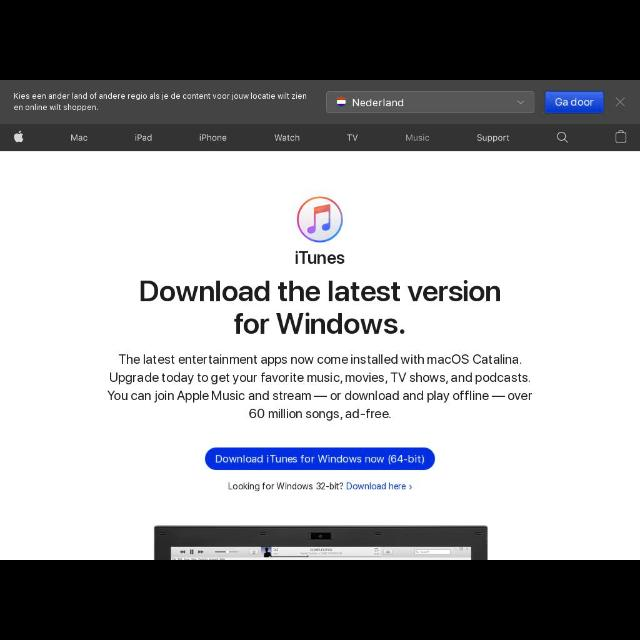icon: (616, 130, 626, 142), (558, 132, 568, 142), (615, 98, 625, 106), (517, 100, 525, 104)
image: (154, 526, 486, 560), (296, 196, 344, 242), (14, 132, 24, 142), (336, 98, 346, 106)
text: (108, 354, 532, 422), (141, 280, 501, 334), (216, 455, 424, 465), (229, 483, 413, 491), (296, 250, 344, 264), (354, 99, 404, 108), (556, 98, 594, 106), (478, 134, 510, 142), (199, 134, 227, 142), (274, 133, 300, 141), (404, 134, 430, 142), (70, 134, 88, 140), (136, 134, 152, 140), (346, 134, 358, 140)
textbutton: (206, 448, 434, 470), (326, 90, 534, 114), (545, 90, 603, 114)
toolbar: (1, 123, 640, 151), (12, 92, 308, 112)
